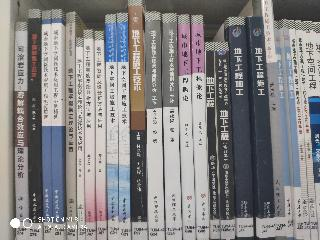book-spine: (249, 17, 275, 240), (228, 18, 254, 239), (280, 19, 305, 239), (263, 1, 286, 240), (289, 21, 311, 239), (296, 21, 317, 239), (128, 1, 147, 240), (161, 14, 181, 239), (273, 21, 293, 239), (145, 12, 164, 239), (299, 21, 320, 225), (215, 42, 235, 240), (178, 15, 195, 239), (192, 15, 208, 238), (28, 10, 42, 239), (117, 14, 130, 239), (52, 9, 64, 239), (206, 42, 220, 239), (106, 14, 118, 239), (95, 32, 107, 239), (16, 23, 27, 239), (84, 30, 95, 239), (42, 11, 52, 238), (66, 12, 76, 239), (76, 38, 85, 239)
